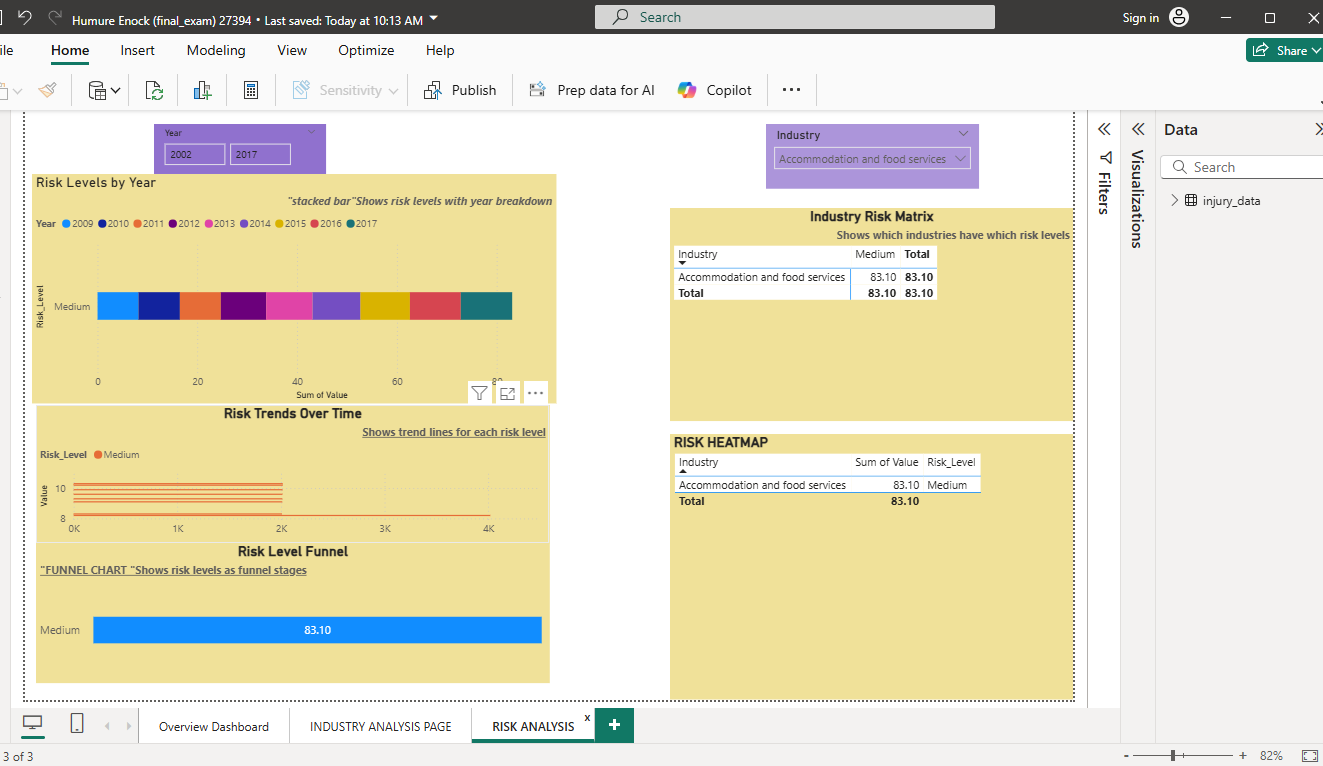

The dashboard page shown, as its layout file describes it:
{"tool":"powerbi","page":{"name":" RISK ANALYSIS","canvas":[1280,720],"ordinal":2},"visuals":[{"type":"barChart","title":"Risk Levels by Year","fields":{"Category":["injury_data.Risk_Level"],"Y":["Sum(injury_data.Value)"],"Series":["injury_data.Year"]},"box":[8.6,78.6,640,280],"z":0},{"type":"pivotTable","title":"Industry Risk Matrix","fields":{"Rows":["injury_data.Industry"],"Columns":["injury_data.Risk_Level"],"Values":["Sum(injury_data.Value)"]},"box":[787.1,120,492.9,260],"z":1000},{"type":"barChart","title":"Risk Trends Over Time","fields":{"Y":["Sum(injury_data.Year)"],"Category":["injury_data.Value"],"Series":["injury_data.Risk_Level"]},"box":[12.9,360,627.1,168.6],"z":2000},{"type":"funnel","title":"Risk Level Funnel","fields":{"Category":["injury_data.Risk_Level"],"Y":["Sum(injury_data.Value)"]},"box":[12.9,528.6,627.1,171.4],"z":3000},{"type":"tableEx","title":"RISK HEATMAP","fields":{"Values":["injury_data.Industry","Sum(injury_data.Value)","injury_data.Risk_Level"]},"box":[787.1,395.7,492.9,324.3],"z":4000},{"type":"slicer","fields":{"Values":["injury_data.Year"]},"box":[157.1,17.1,210,61.4],"z":5000},{"type":"slicer","fields":{"Values":["injury_data.Industry"]},"box":[904.3,17.1,260,78.6],"z":6000}]}

Visuals, with their boxes on the page's 1280x720 design canvas (x1, y1, x2, y2). These are canvas units, not pixel positions in the 1323x766 screenshot, which may show the page scaled, cropped or inside an application window:
"Risk Levels by Year" barChart: BBox(9, 79, 649, 359)
"Industry Risk Matrix" pivotTable: BBox(787, 120, 1280, 380)
"Risk Trends Over Time" barChart: BBox(13, 360, 640, 529)
"Risk Level Funnel" funnel: BBox(13, 529, 640, 700)
"RISK HEATMAP" tableEx: BBox(787, 396, 1280, 720)
slicer - injury_data.Year: BBox(157, 17, 367, 78)
slicer - injury_data.Industry: BBox(904, 17, 1164, 96)
